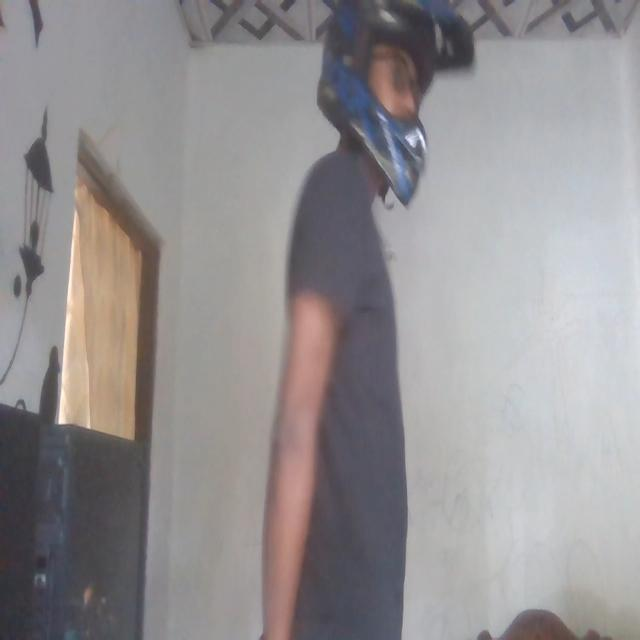Helmet_Wearer: (316, 0, 485, 228)
Person: (270, 2, 480, 640)
